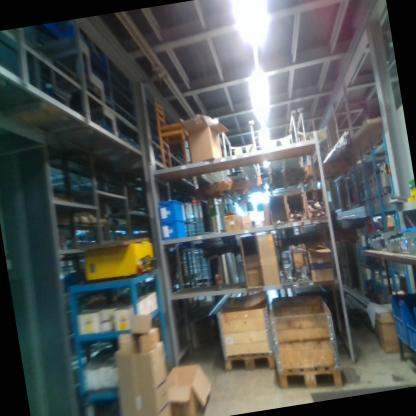pallet: (276, 356, 345, 397), (221, 346, 277, 378)
small_load_carrier: (386, 288, 416, 355), (154, 196, 185, 225), (157, 216, 190, 243), (402, 303, 416, 366)
